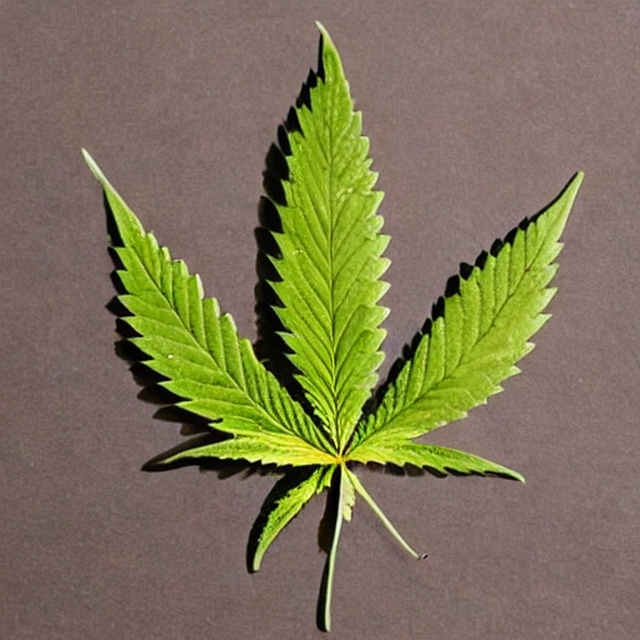Marijuana Leaf: (78, 18, 585, 631)
